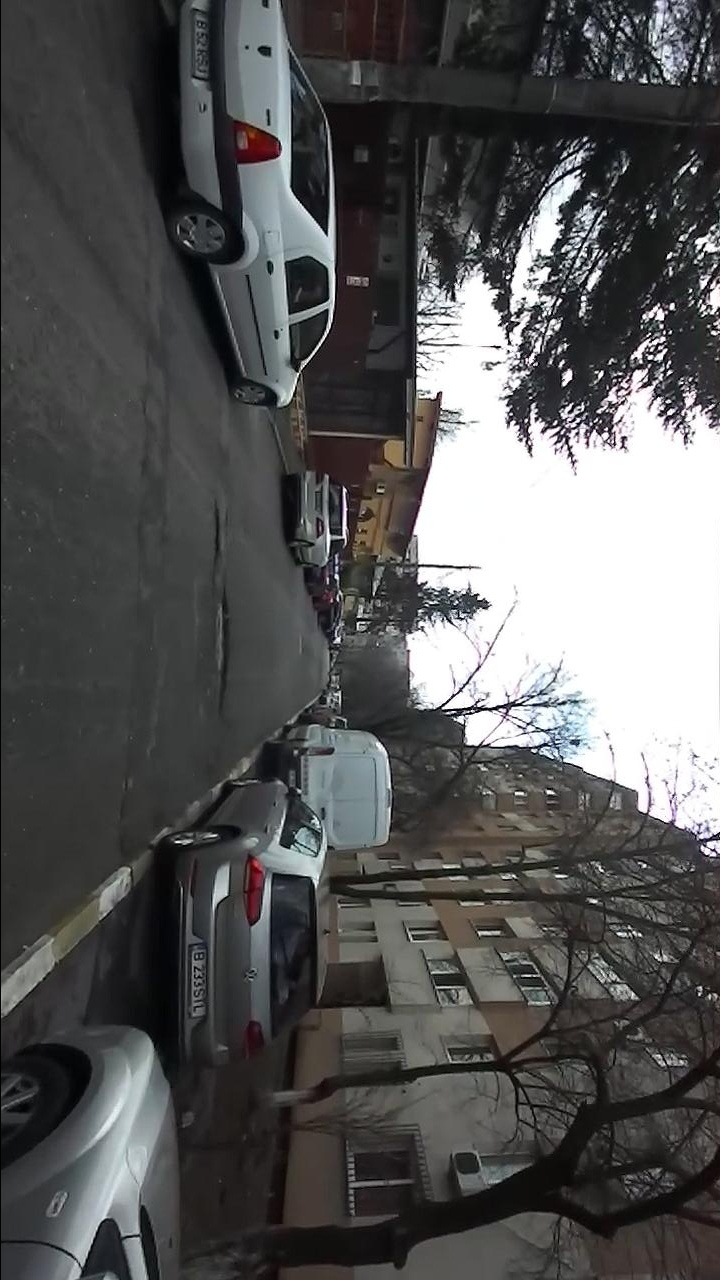pothole: (209, 585, 232, 721), (113, 770, 137, 850), (210, 496, 224, 577)
